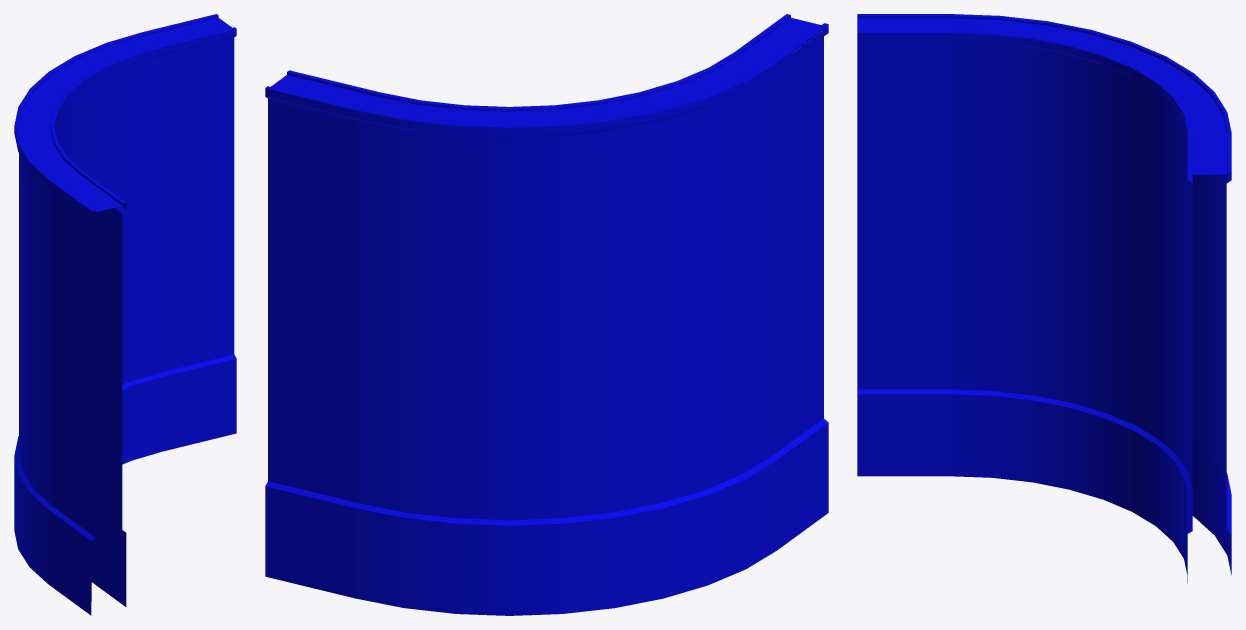
Rendered from Wall_Corner.FBX.
The picture shows the model from 3 angles, left to right: view 1: azimuth 30°, elevation 25°; view 2: azimuth 150°, elevation 25°; view 3: azimuth 270°, elevation 25°; orthographic projection. The views are drawn at different scales.
Parts seen in each view (by area): view 1: Wall_Corner; view 2: Wall_Corner; view 3: Wall_Corner.
Boxes of the visible parts, left/top/right/bottom form: Wall_Corner: left=14, top=14, right=236, bottom=615; Wall_Corner: left=265, top=14, right=828, bottom=615; Wall_Corner: left=857, top=14, right=1231, bottom=582.
Size of the model in its own units: 98.44 by 129 by 98.43.
